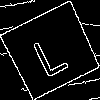L: (26, 25, 71, 78)
